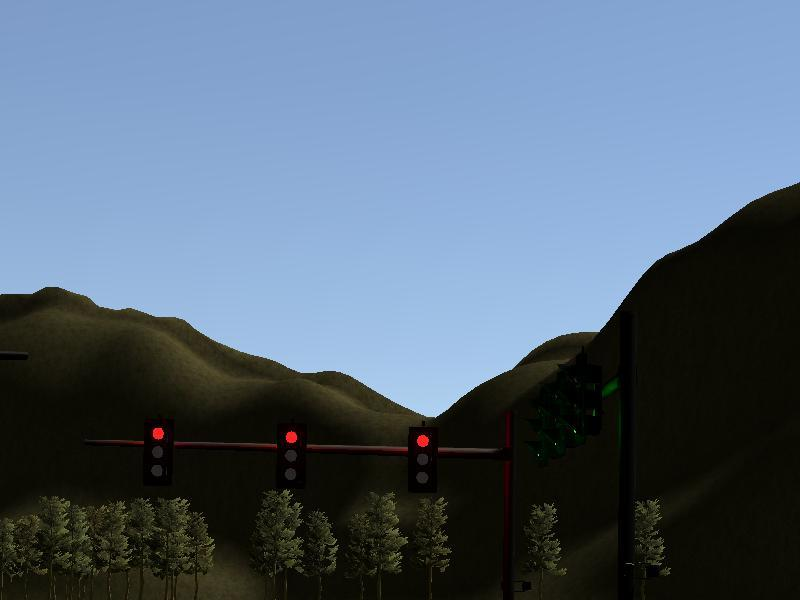Red: (277, 422, 307, 488), (144, 422, 175, 483), (406, 427, 436, 488)
